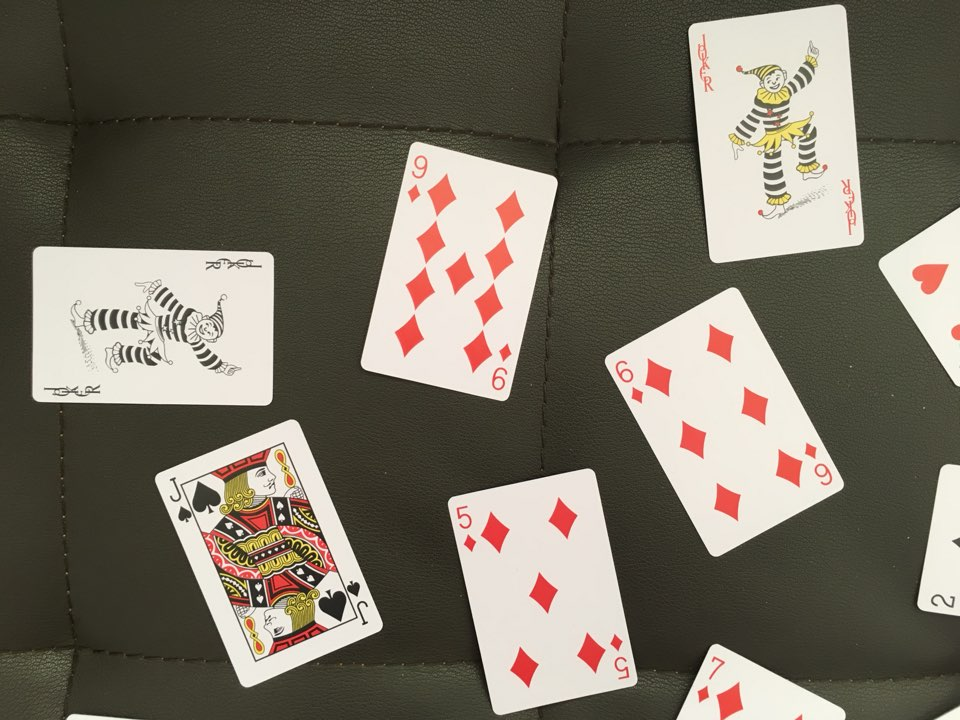jack: (149, 411, 393, 693)
nine: (351, 133, 568, 405)
